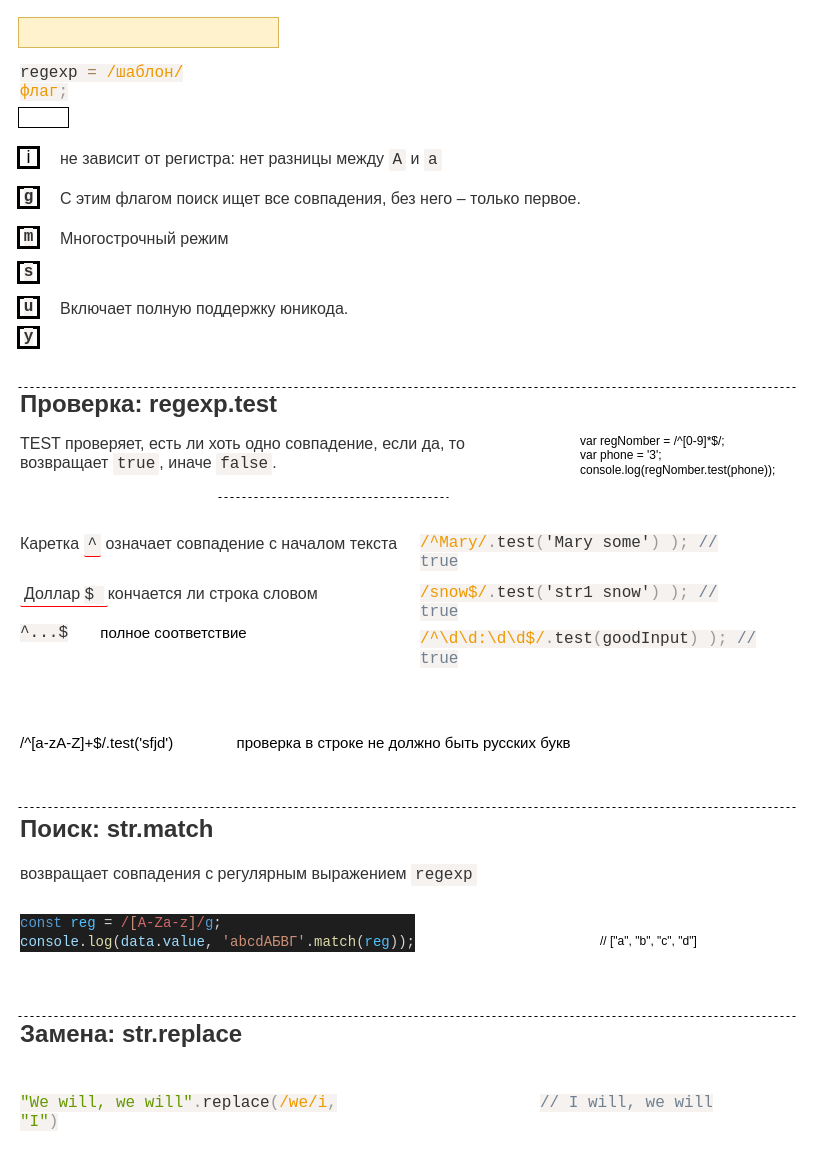
Some shapes in this 817 by 1150 pixel diagram are drawn without their labels. The shapes that lost their labels are listed below. From the top down, each one's centre as x and y in pixels, then its label:
At point (148, 32): "https://learn.javascript.ru/regexp-introduction".
At point (43, 117): "флаги".
